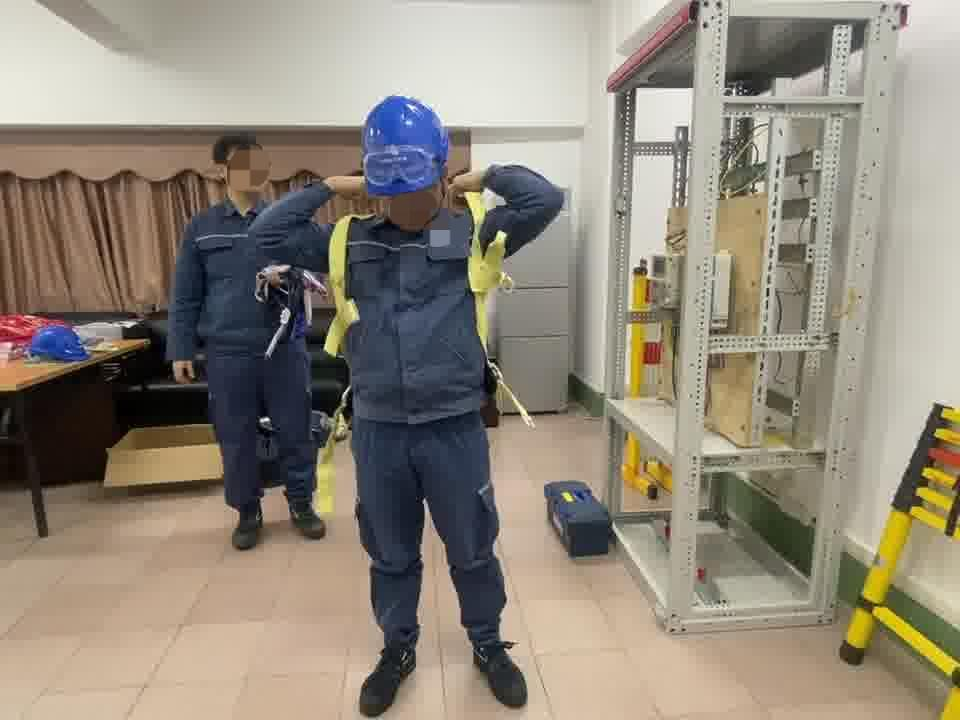halt: (360, 93, 459, 234)
noear: (213, 160, 230, 183)
unhalt: (215, 132, 274, 207)
